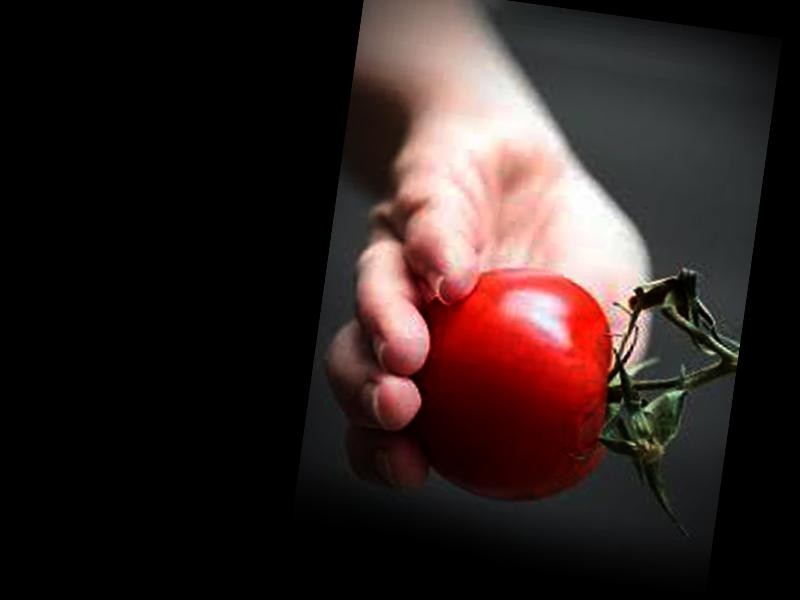Tomato: (397, 256, 632, 514)
